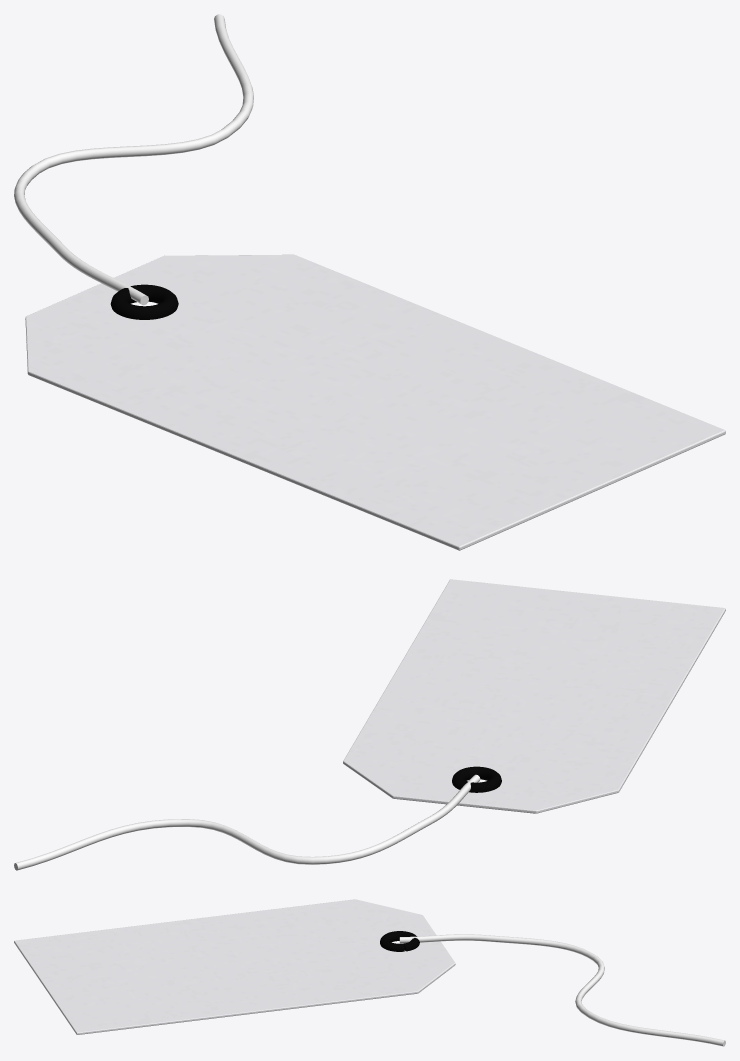
File: hangtag.glb
3 renders of one model, top to bottom at view 1: azimuth 30°, elevation 25°; view 2: azimuth 150°, elevation 25°; view 3: azimuth 270°, elevation 25°, orthographic. The views are drawn at different scales.
Visible parts, largest first — view 1: tag, string, eyelet; view 2: tag, string, eyelet; view 3: tag, string, eyelet.
Part boxes in pixels (bbox=[...]): tag: bbox=[25, 254, 725, 550]; string: bbox=[14, 14, 253, 305]; eyelet: bbox=[110, 284, 178, 319]; tag: bbox=[343, 579, 725, 813]; string: bbox=[14, 774, 480, 870]; eyelet: bbox=[452, 766, 501, 792]; tag: bbox=[14, 899, 455, 1034]; string: bbox=[399, 934, 725, 1046]; eyelet: bbox=[380, 931, 419, 951].
Bounding box in the file's own units: 0.0761 × 0.00227 × 0.1563.
4 materials, 4 textured.
